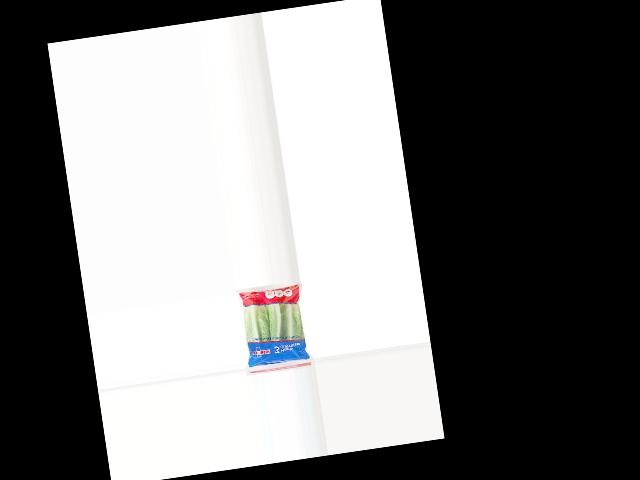lettuce: (236, 280, 311, 369)
